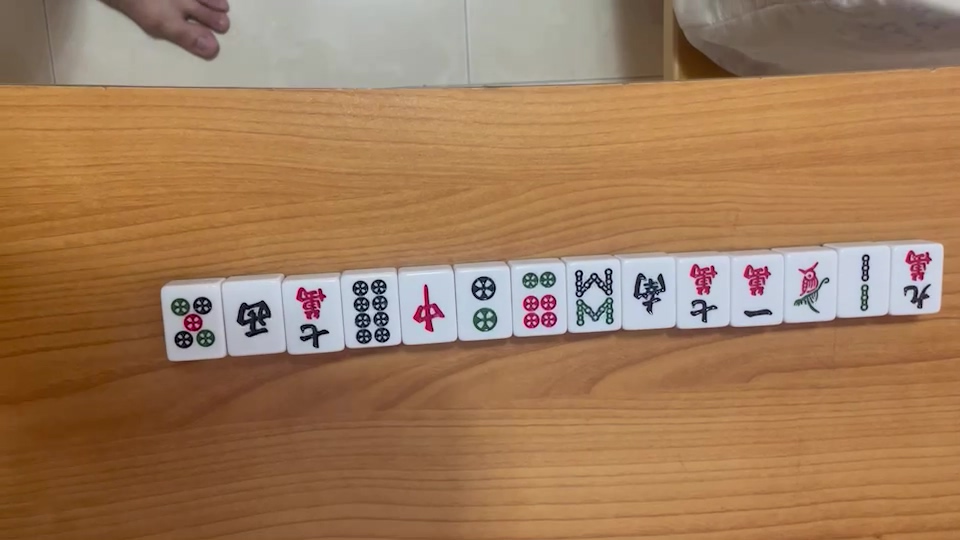b-1: (789, 256, 831, 316)
b-2: (847, 252, 883, 312)
b-8: (573, 266, 615, 328)
c-1: (736, 262, 777, 322)
c-7: (290, 282, 329, 351), (684, 261, 722, 325)
c-9: (895, 249, 936, 311)
d-2: (467, 273, 500, 336)
d-5: (168, 290, 217, 354)
d-6: (522, 267, 558, 331)
d-8: (348, 275, 392, 346)
honors-red: (403, 282, 448, 333)
honors-south: (630, 270, 668, 315)
honors-west: (229, 298, 276, 346)
